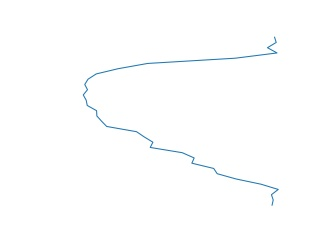mouthBar: (79, 36, 284, 208)
